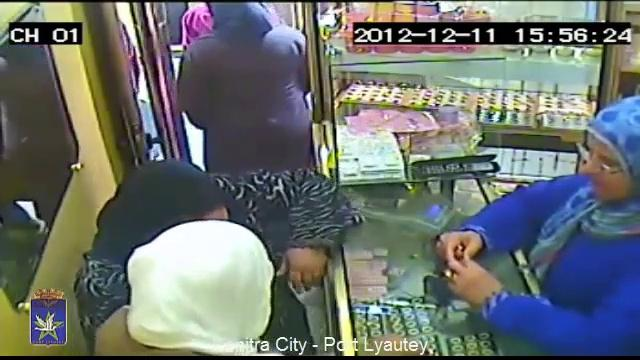Product: (438, 243, 464, 274)
Product-Picked: (382, 81, 640, 353)
Regular: (105, 205, 323, 360), (127, 125, 232, 225), (195, 0, 295, 98)
